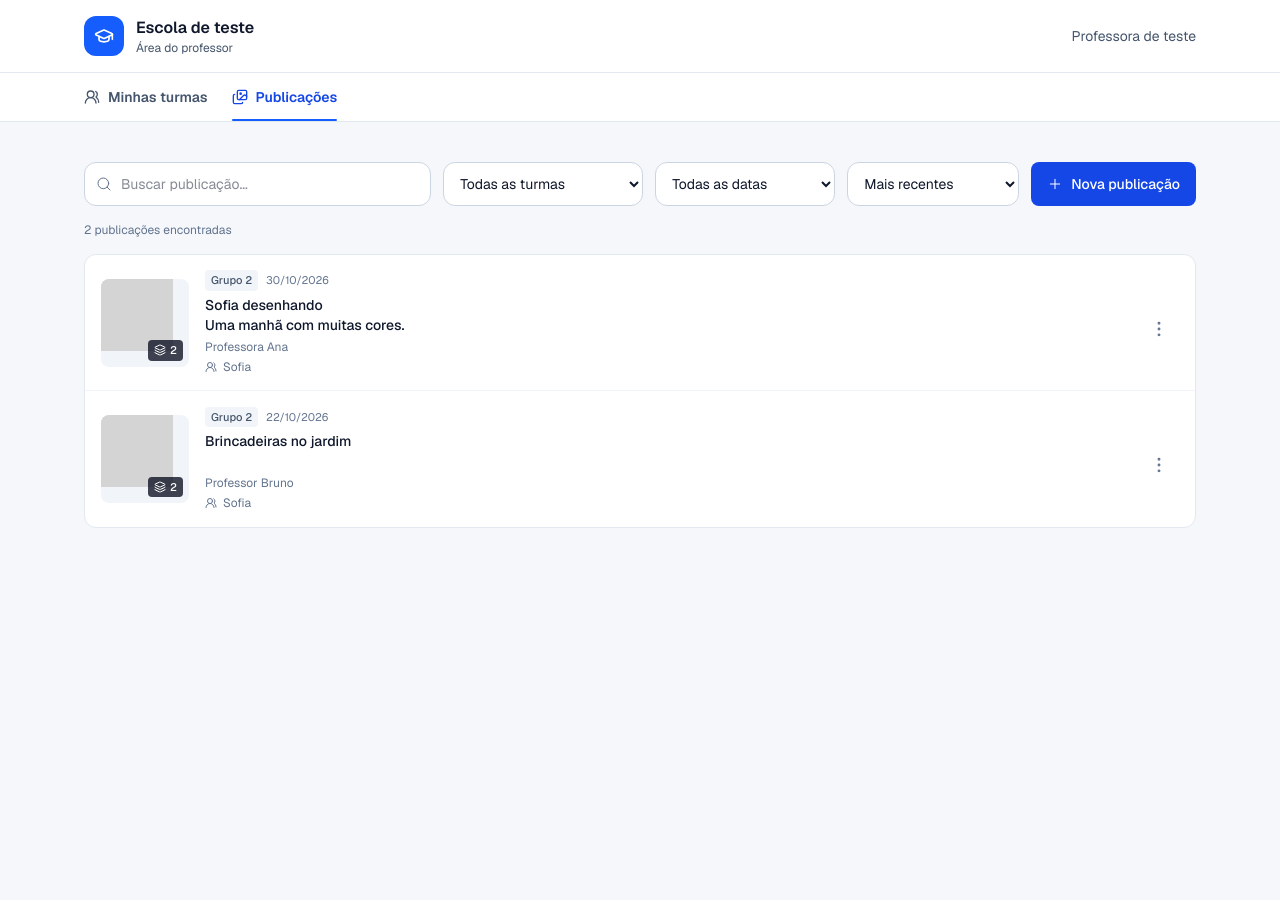
Scenario: workspace integrated with existing API contracts › ignores late detail responses after the drawer is closed
What coordinates should you click on to do the following:
click the button named "Ver publicação: Sofia desenhando Uma manhã com muitas cores."
I would click on:
 (640, 322)
Its box is [85,255,1195,390].
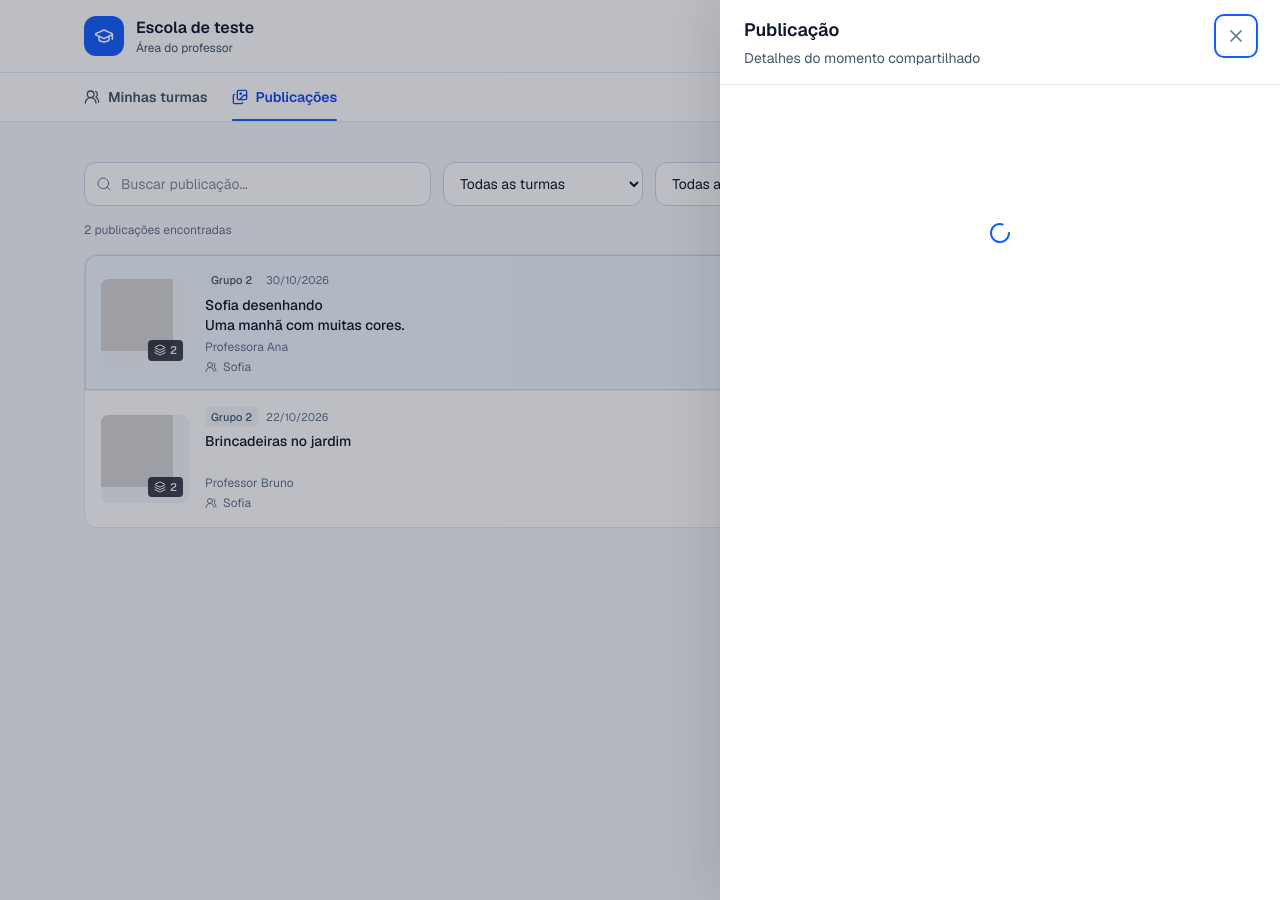
What coordinates should you click on to do the following:
click the button named "Fechar publicação"
I would click on:
 (1236, 36)
Its box is [1216,16,1256,56].
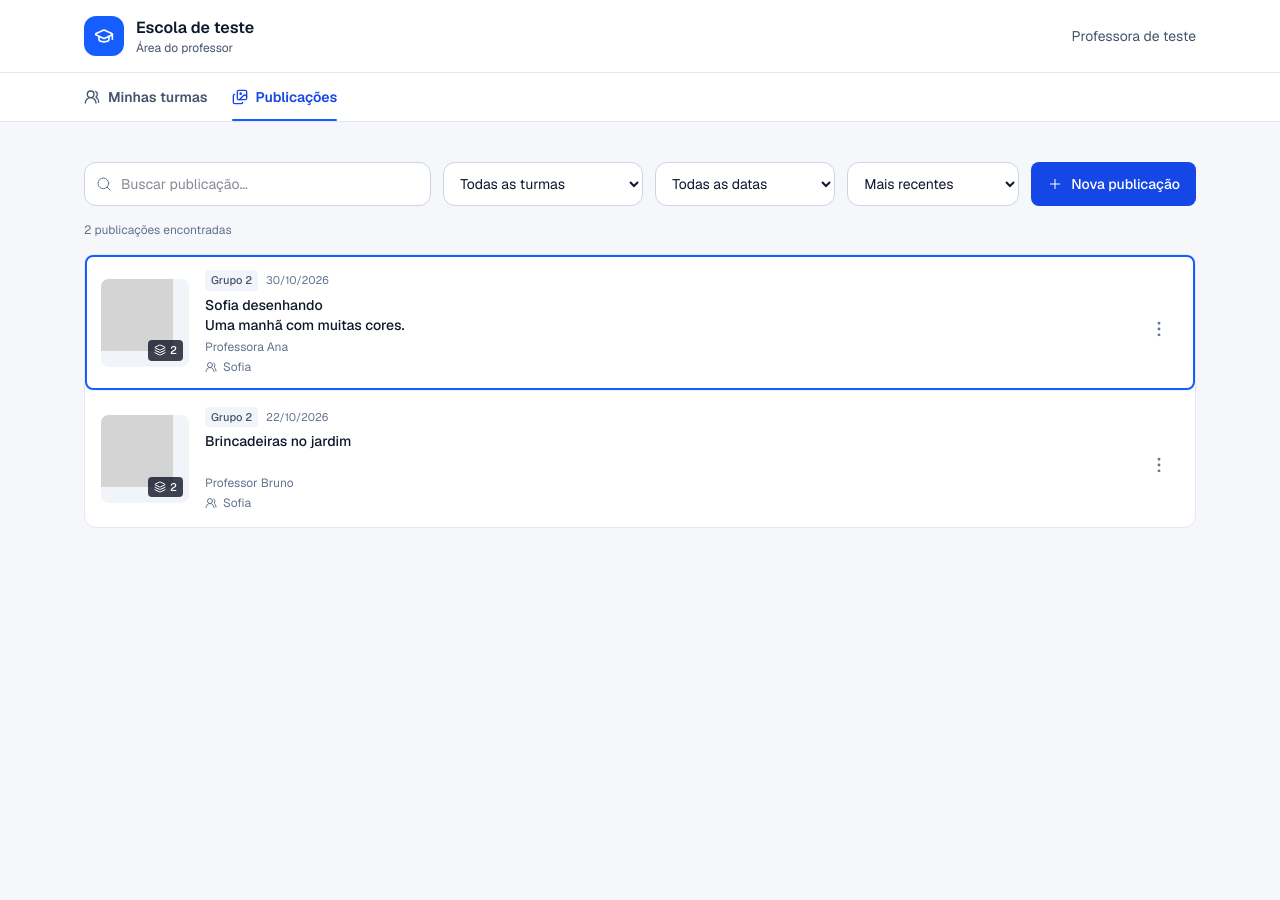
expect the dialog is gone: met
